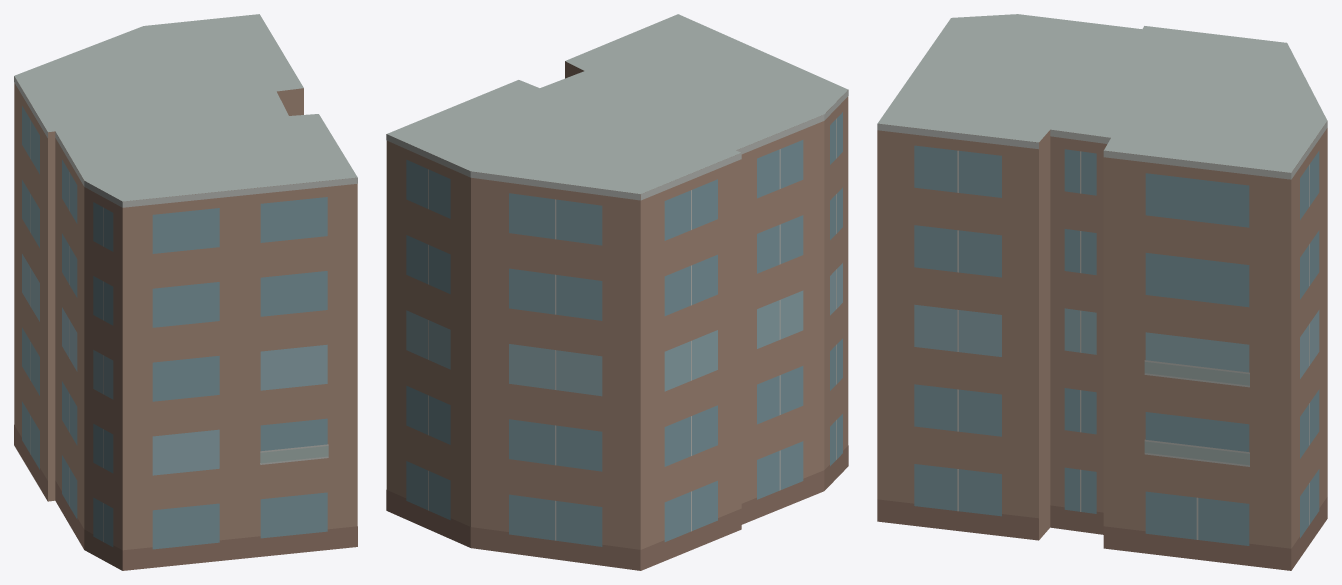
File: survey-upis-32876905.glb
3 views of the same model, side by side, from view 1: azimuth 30°, elevation 25°; view 2: azimuth 150°, elevation 25°; view 3: azimuth 270°, elevation 25° (orthographic). The views are drawn at different scales.
Visible parts, largest first — view 1: survey-upis-32876905.tmp; view 2: survey-upis-32876905.tmp; view 3: survey-upis-32876905.tmp.
Boxes of the visible parts, left/top/right/bottom form: survey-upis-32876905.tmp: left=14, top=14, right=357, bottom=570; survey-upis-32876905.tmp: left=386, top=14, right=848, bottom=570; survey-upis-32876905.tmp: left=877, top=14, right=1327, bottom=570.
Bounding box in the file's own units: 12.34 × 14.4 × 14.77.
